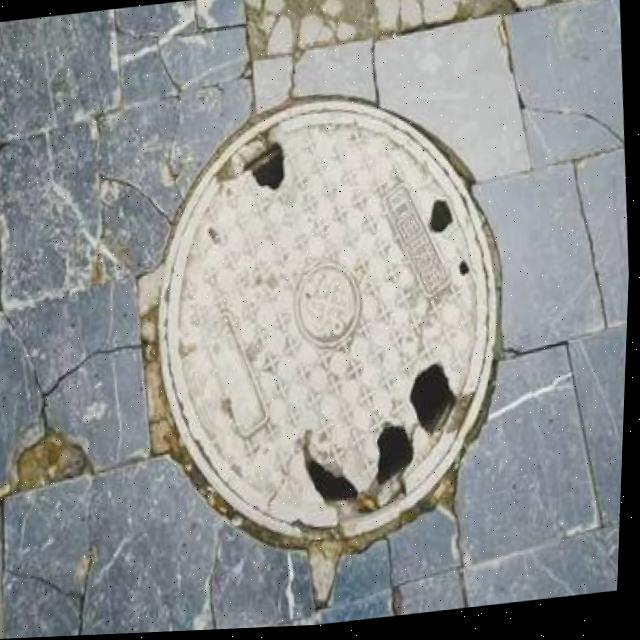manhole: (129, 73, 527, 564)
